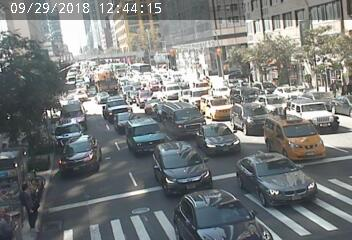car: (188, 192, 247, 239), (153, 141, 205, 186), (249, 160, 298, 200), (270, 123, 318, 163), (64, 141, 99, 177), (161, 103, 202, 130), (205, 127, 241, 151), (298, 99, 335, 122), (127, 120, 156, 148), (231, 82, 256, 103), (237, 107, 261, 126), (56, 125, 84, 141), (95, 73, 117, 92), (204, 95, 226, 112), (61, 102, 82, 116), (106, 99, 129, 111), (147, 98, 167, 110), (184, 91, 207, 101), (150, 80, 165, 94), (114, 114, 129, 127), (261, 98, 276, 110), (164, 85, 182, 95), (281, 83, 294, 93), (136, 93, 149, 101), (120, 82, 132, 89)
